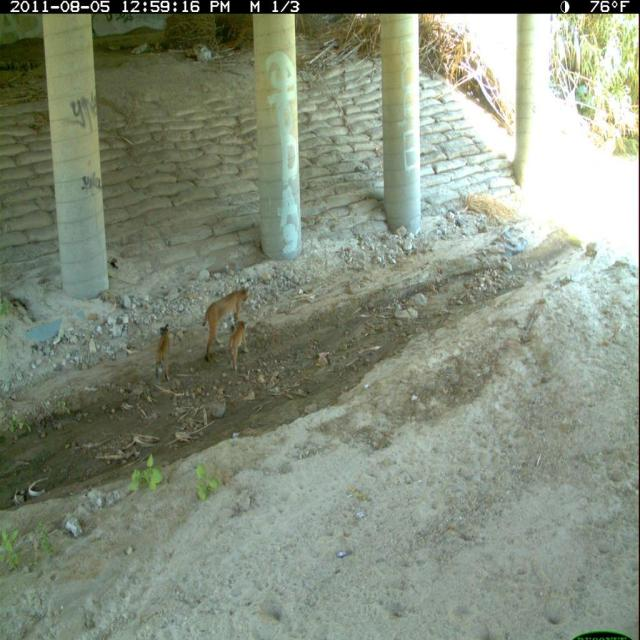bobcat: (200, 280, 254, 367), (225, 316, 253, 372), (152, 321, 174, 387)
